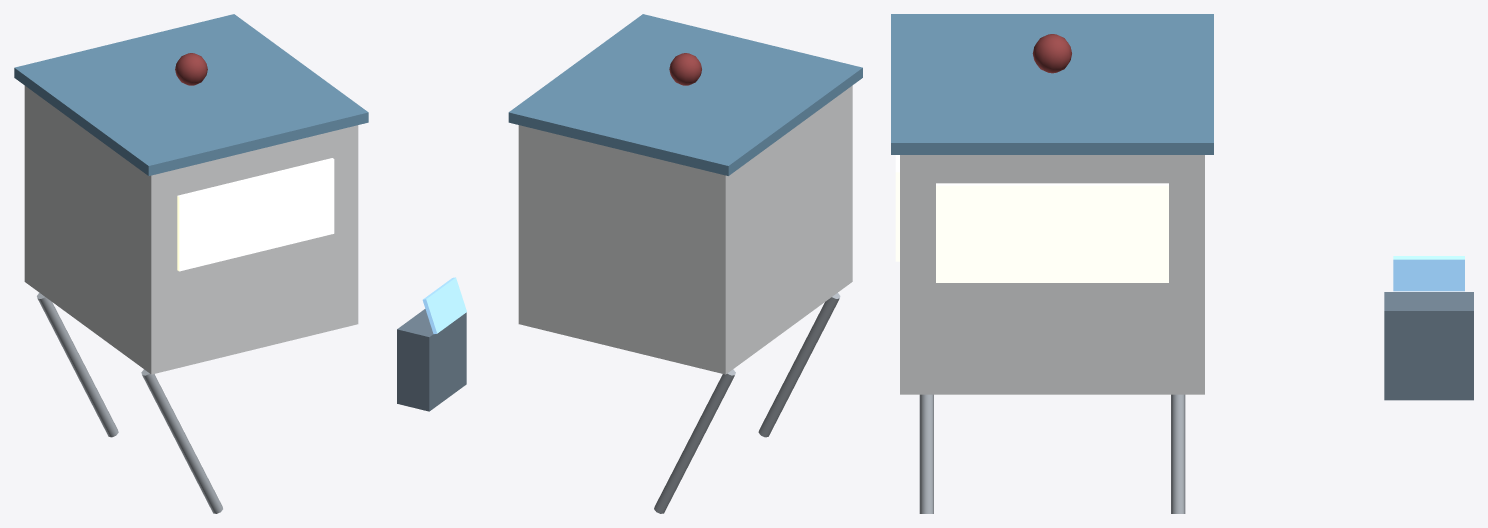
The model's file is doghouse.glb.
3 views of the same model, side by side, from view 1: azimuth 30°, elevation 25°; view 2: azimuth 150°, elevation 25°; view 3: azimuth 270°, elevation 25° (orthographic). The views are drawn at different scales.
Size of the model in its own units: 3.45 by 6.1 by 6.5.
